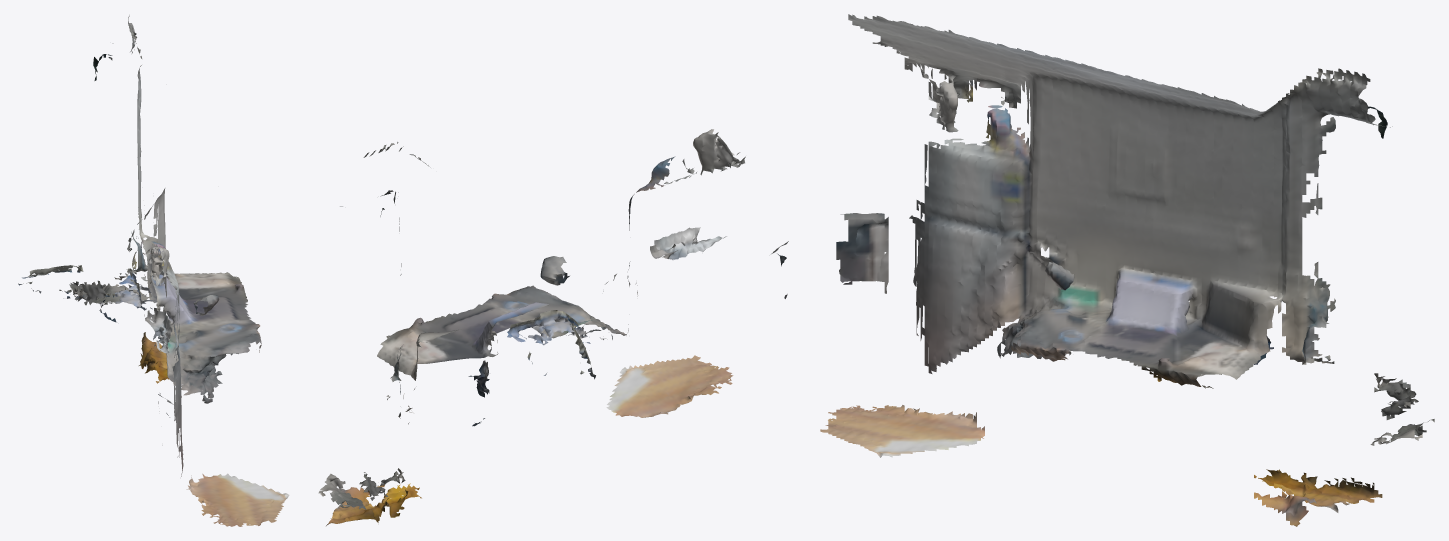
Rendered from scan-be65803f258c.glb.
The picture shows the model from 3 angles, left to right: view 1: azimuth 30°, elevation 25°; view 2: azimuth 150°, elevation 25°; view 3: azimuth 270°, elevation 25°; orthographic projection. The views are drawn at different scales.
Bounding box in the file's own units: 1.55 × 2.34 × 3.06.
